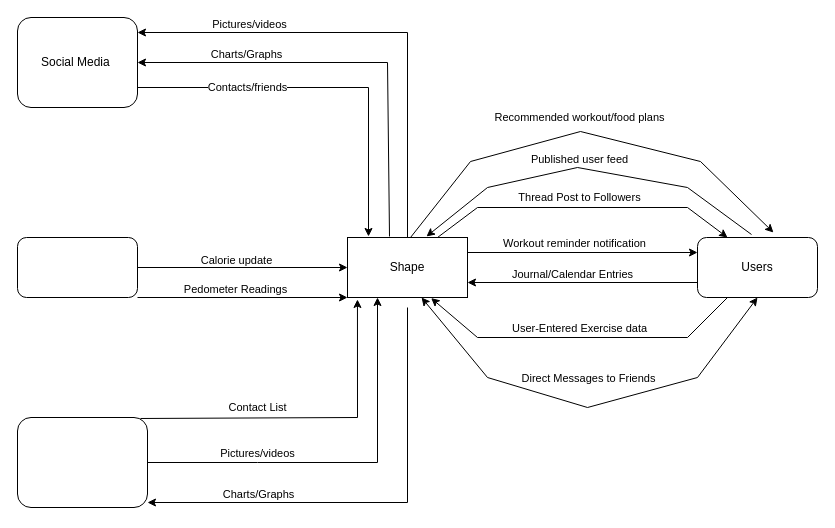
Some shapes in this 835 by 528 pixel diagram are drawn without their labels. Here are the shapes that lost their labels. From the top down, the centre of each, then its label:
At point (77, 267): "Integrated Fitness Apps".
At point (82, 462): "Phone".
